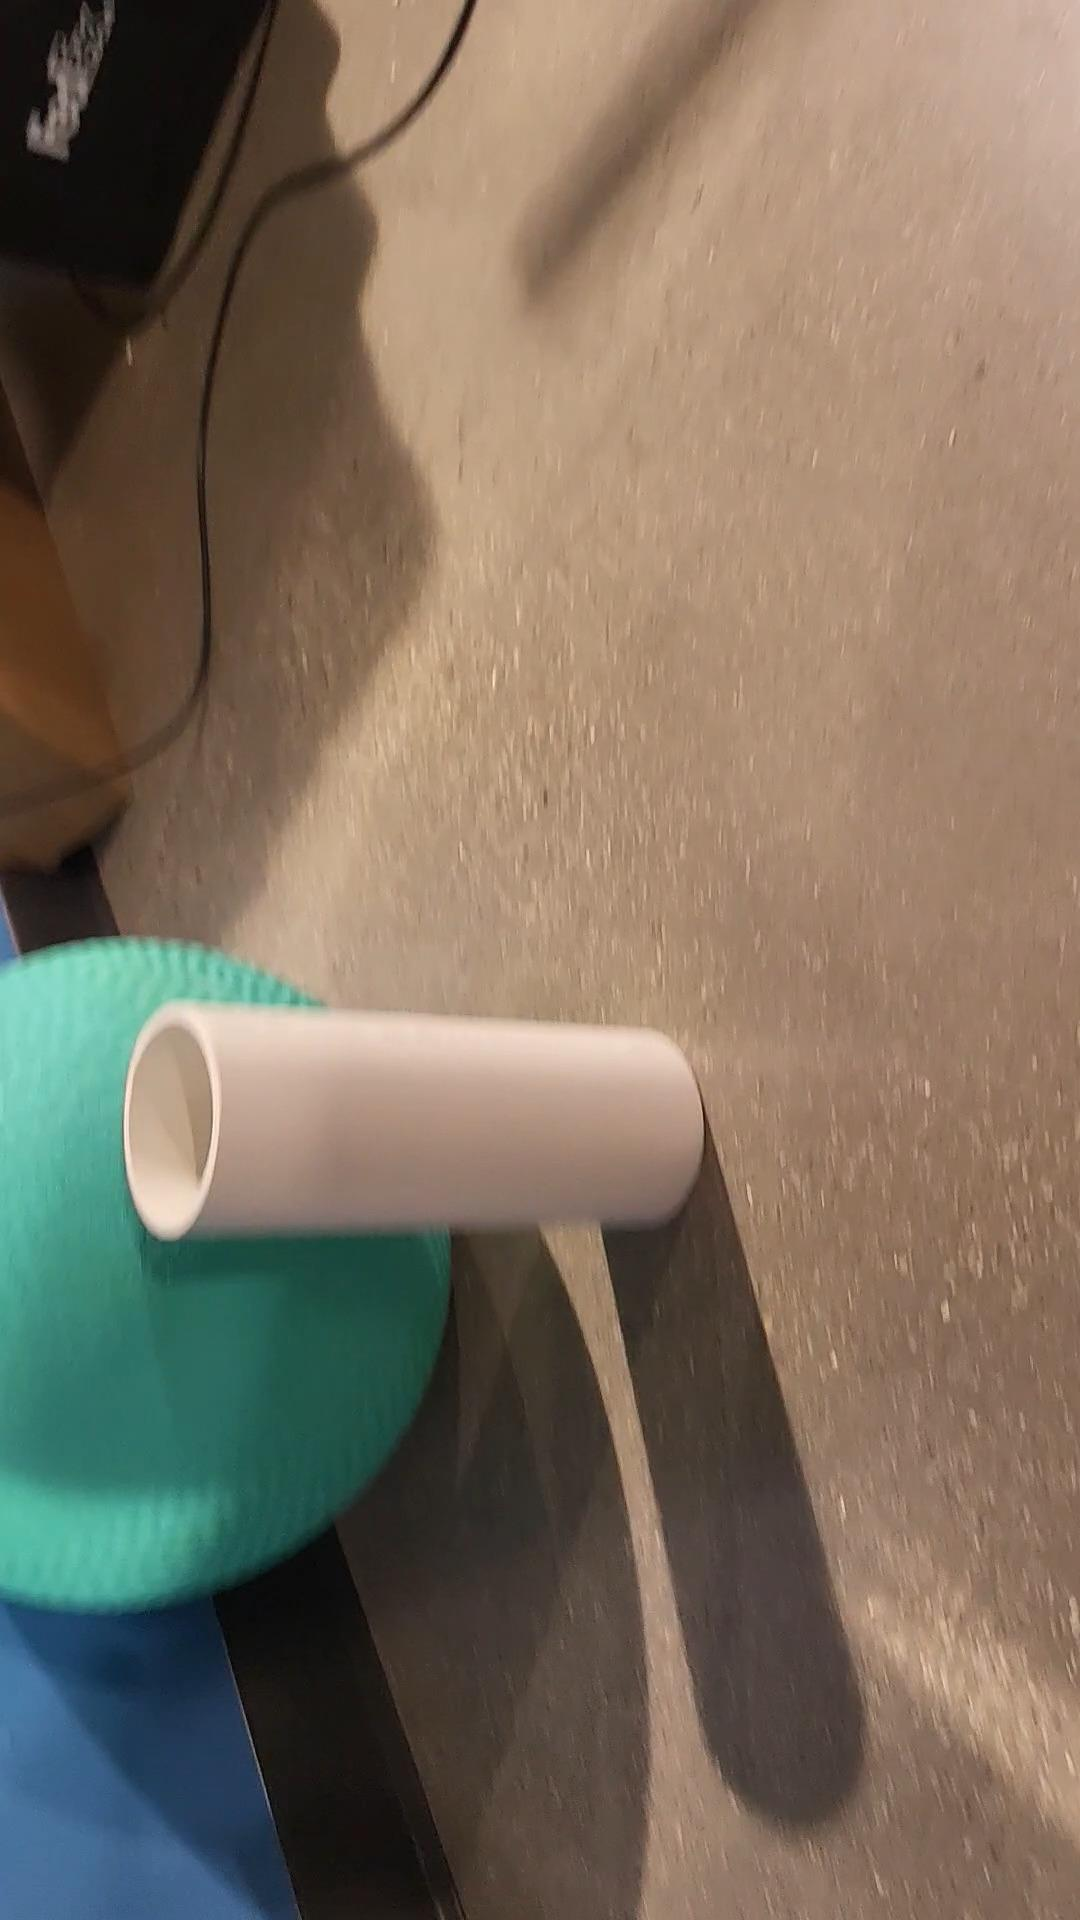algae: (0, 935, 458, 1610)
coral: (131, 1007, 703, 1236)
